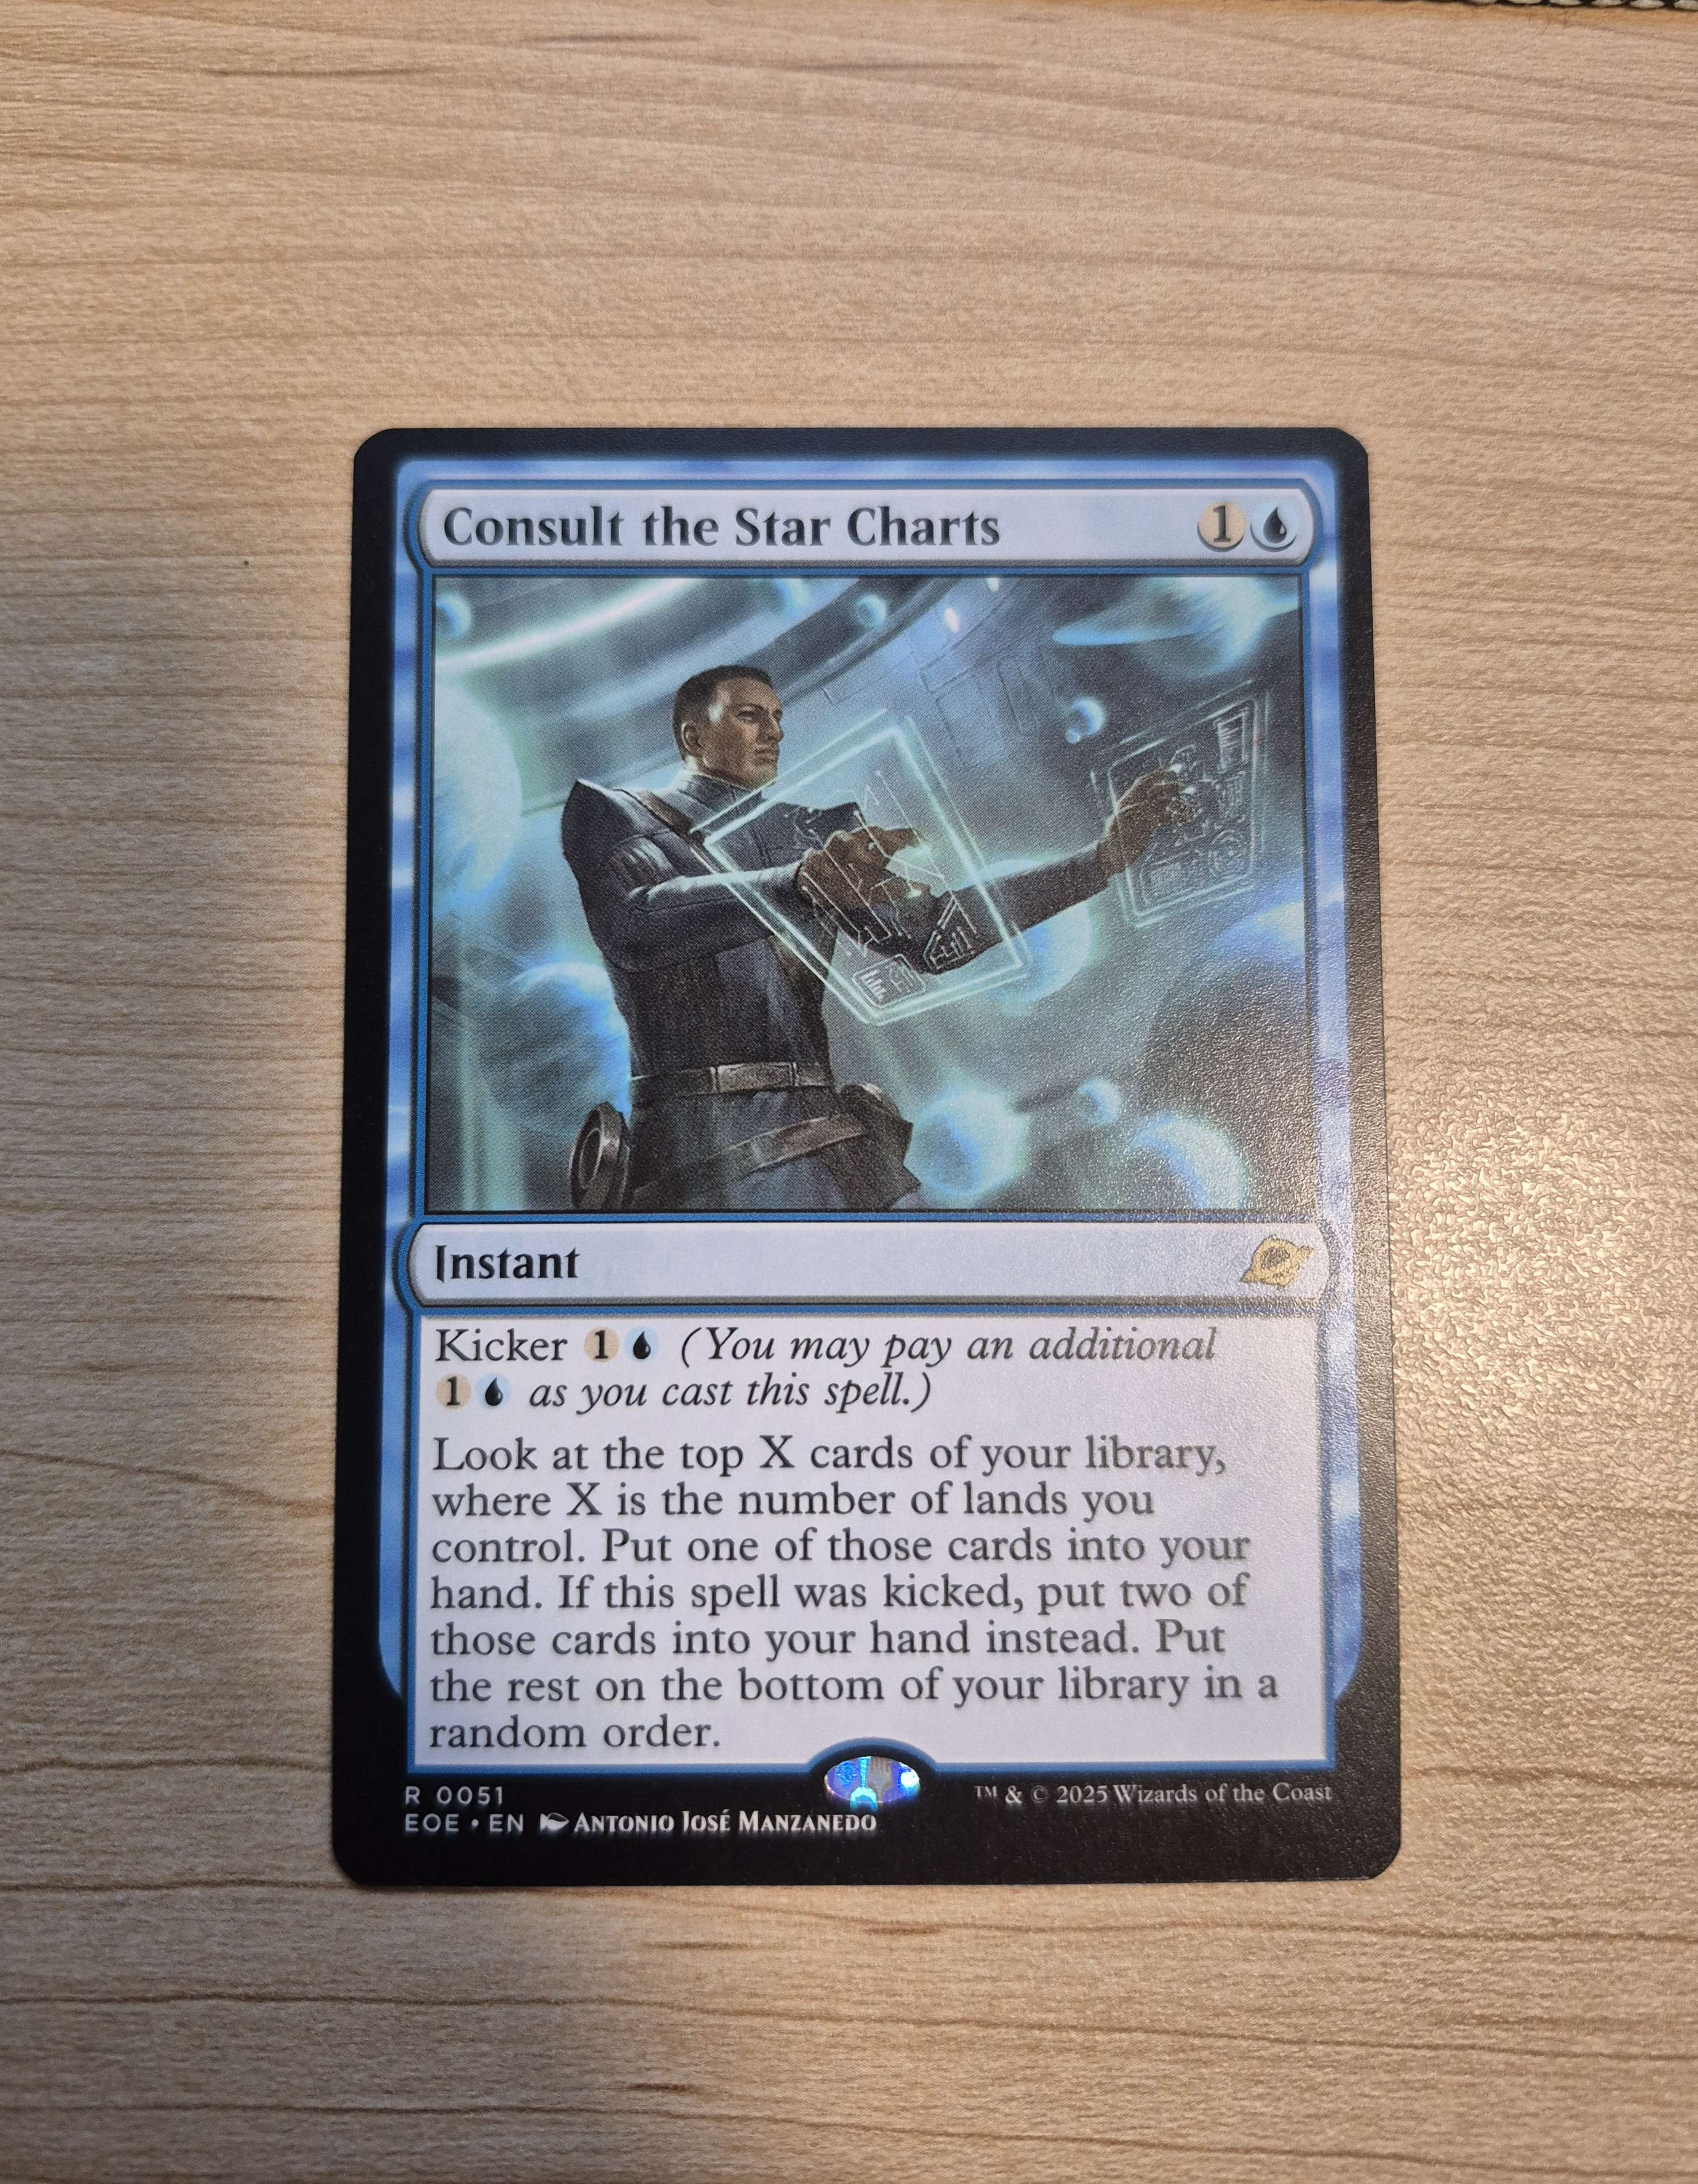mtg_card: (356, 422, 1427, 1884)
